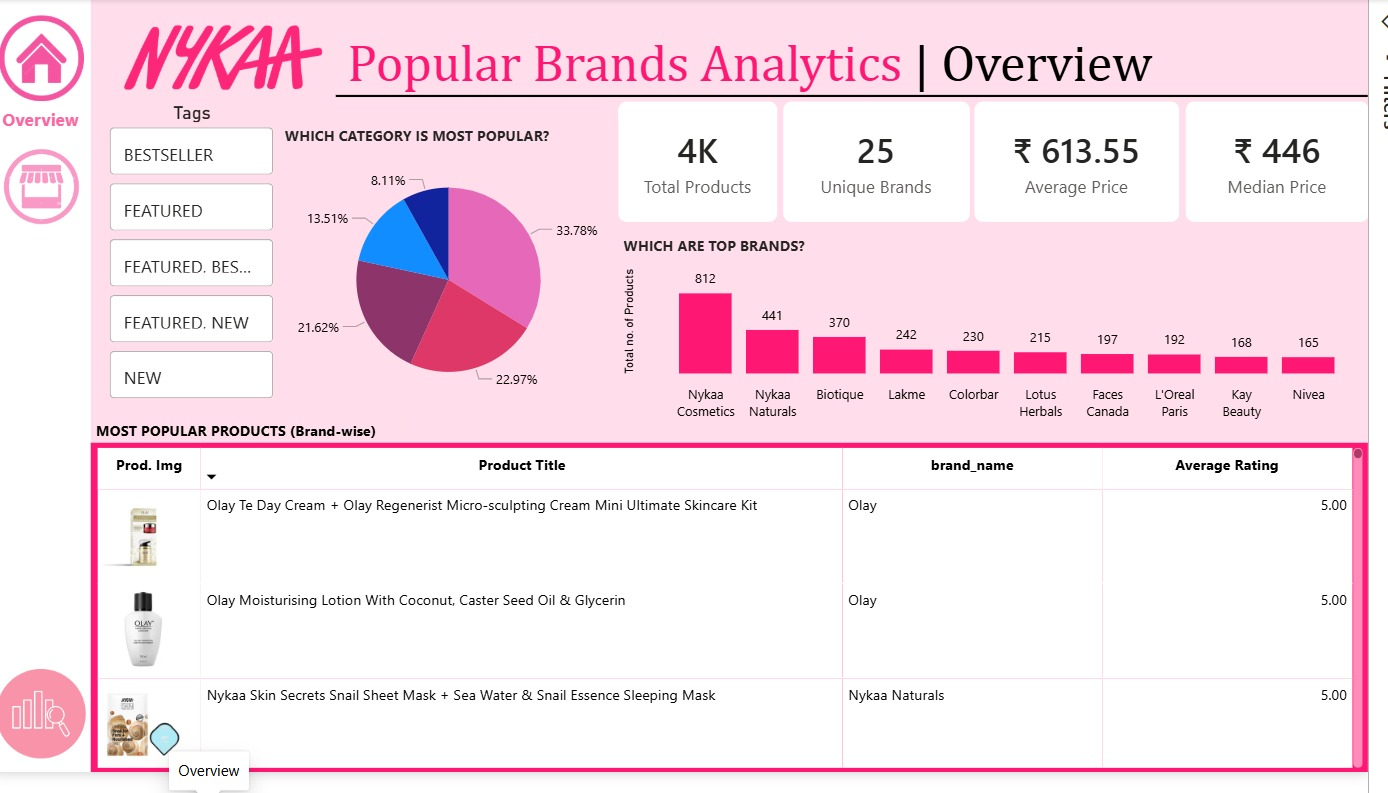

What the dashboard file says about the page in this screenshot:
{"tool":"powerbi","page":{"name":"Overview","canvas":[1280,720],"ordinal":0},"visuals":[{"type":"shape","box":[0,0,91.9,720.4],"z":0},{"type":"shape","box":[228,15.7,904.8,92.9],"z":1000},{"type":"image","box":[0,15.7,91.7,79.6],"z":2000},{"type":"image","box":[0,229.2,91.7,85.7],"z":3000},{"type":"image","box":[0,135.1,91.7,84.5],"z":4000},{"type":"image","box":[0,623.7,91.7,83.2],"z":5000},{"type":"image","box":[264.2,25.3,229.2,74.8],"z":6000},{"type":"textbox","box":[479,24.1,621.3,84.5],"z":7000},{"type":"textbox","box":[4.8,95.3,82,39.8],"z":8000},{"type":"actionButton","box":[0,137.5,91.7,82],"z":9000},{"type":"gauge","title":"Total Products","fields":{"Y":["Nykaa_Dataset.Total Products"]},"box":[339,115.8,223.2,103.8],"z":10000},{"type":"gauge","title":"Unique Brands","fields":{"Y":["Nykaa_Dataset.Unique Brands"]},"box":[576.7,115.8,223.2,103.8],"z":11000},{"type":"gauge","title":"Average Price","fields":{"Y":["Nykaa_Dataset.Average Price"]},"box":[105,115.8,223.2,103.8],"z":12000},{"type":"gauge","title":"Median Price","fields":{"Y":["Nykaa_Dataset.Median Price"]},"box":[1048.4,115.8,223.2,103.8],"z":13000},{"type":"gauge","title":"Discounted Products","fields":{"Y":["Nykaa_Dataset.% Discounted Products"]},"box":[814.3,115.8,223.2,103.8],"z":14000},{"type":"advancedSlicerVisual","fields":{"Values":["Nykaa_Dataset.tags (groups)"]},"box":[105,229.2,223.2,269],"z":15000}]}

Visuals, with their boxes on the page's 1280x720 design canvas (x1, y1, x2, y2). These are canvas units, not pixel positions in the 1388x793 screenshot, which may show the page scaled, cropped or inside an application window:
shape: 0,0,92,720
shape: 228,16,1133,109
image: 0,16,92,95
image: 0,229,92,315
image: 0,135,92,220
image: 0,624,92,707
image: 264,25,493,100
textbox: 479,24,1100,109
textbox: 5,95,87,135
actionButton: 0,138,92,220
"Total Products" gauge: 339,116,562,220
"Unique Brands" gauge: 577,116,800,220
"Average Price" gauge: 105,116,328,220
"Median Price" gauge: 1048,116,1272,220
"Discounted Products" gauge: 814,116,1038,220
advancedSlicerVisual - Nykaa_Dataset.tags (groups): 105,229,328,498
